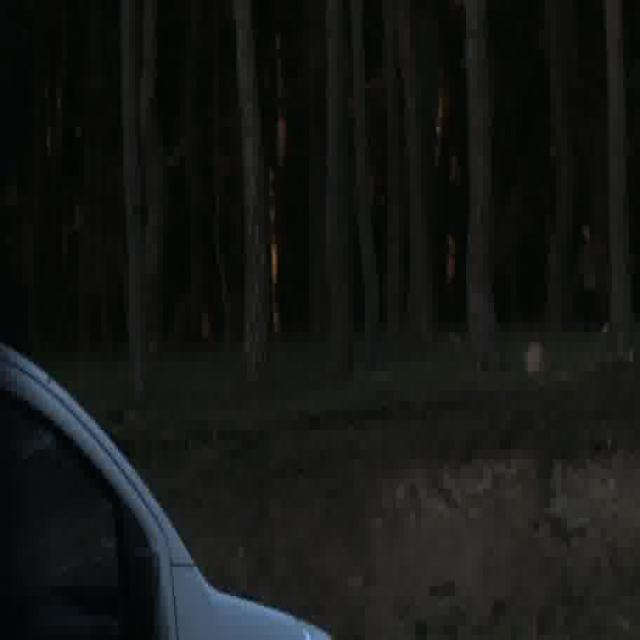Car: (0, 337, 330, 640), (162, 308, 164, 334)
